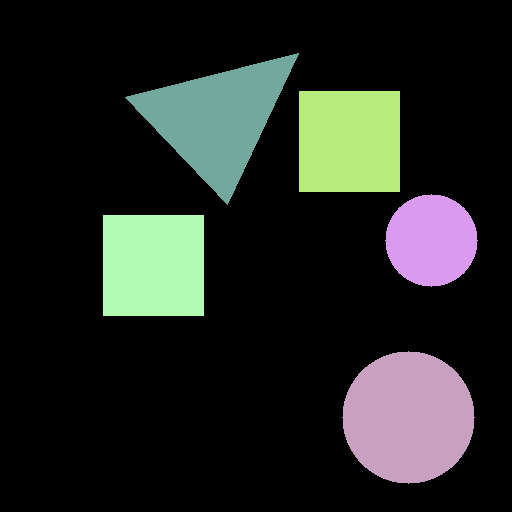circle: (342, 351, 474, 483), (385, 194, 477, 286)
square: (103, 215, 203, 315), (299, 91, 399, 191)
triangle: (125, 53, 298, 204)
